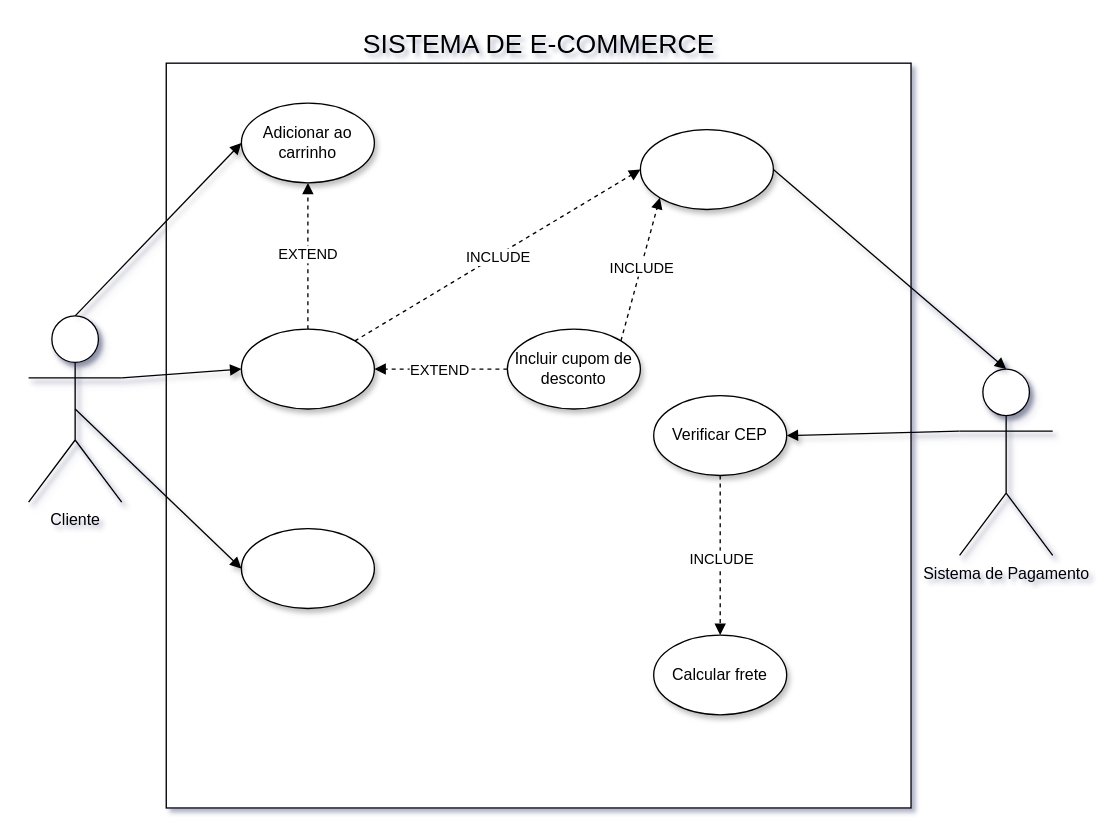
This 1120x839 diagram has some shape labels left out. Each missing label, with the centre of its shape:
"Avaliar produto" goes at (x=308, y=570).
"Finalizar compra" goes at (x=308, y=370).
"Selecionar forma de pagamento" goes at (x=707, y=171).
